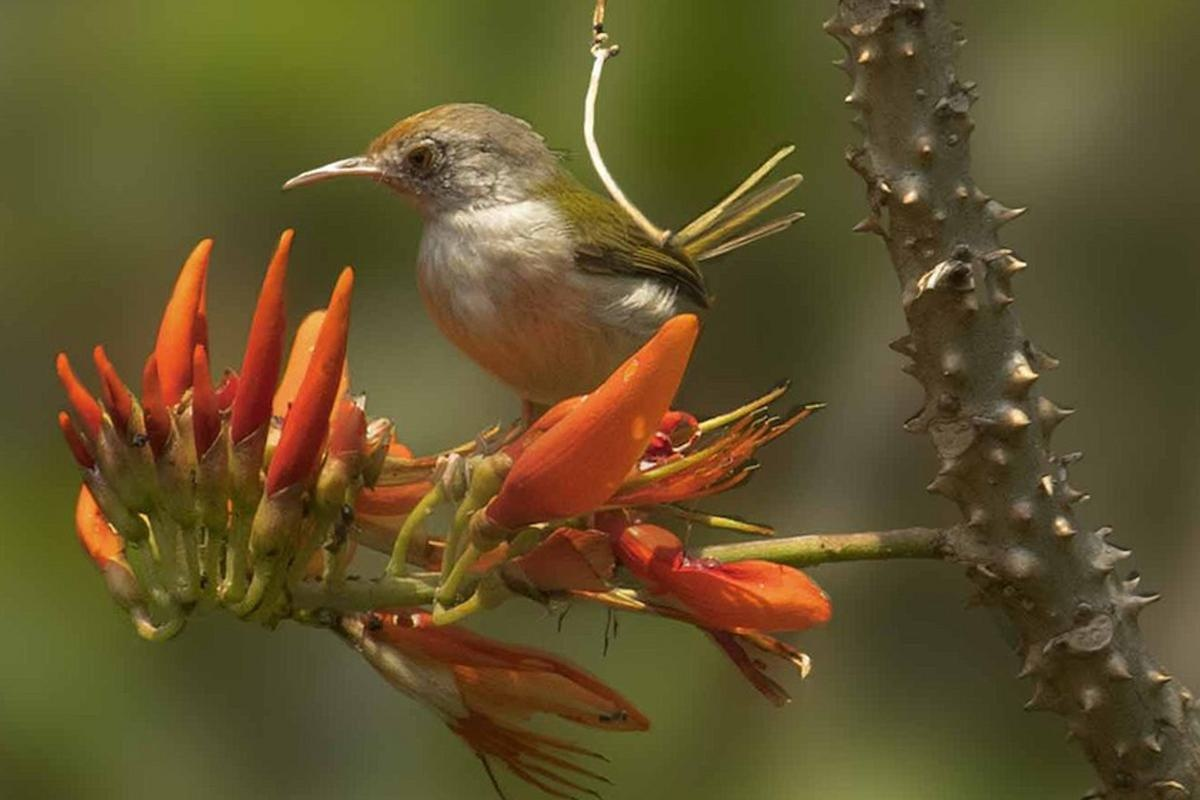tailorbird: (305, 112, 777, 431)
